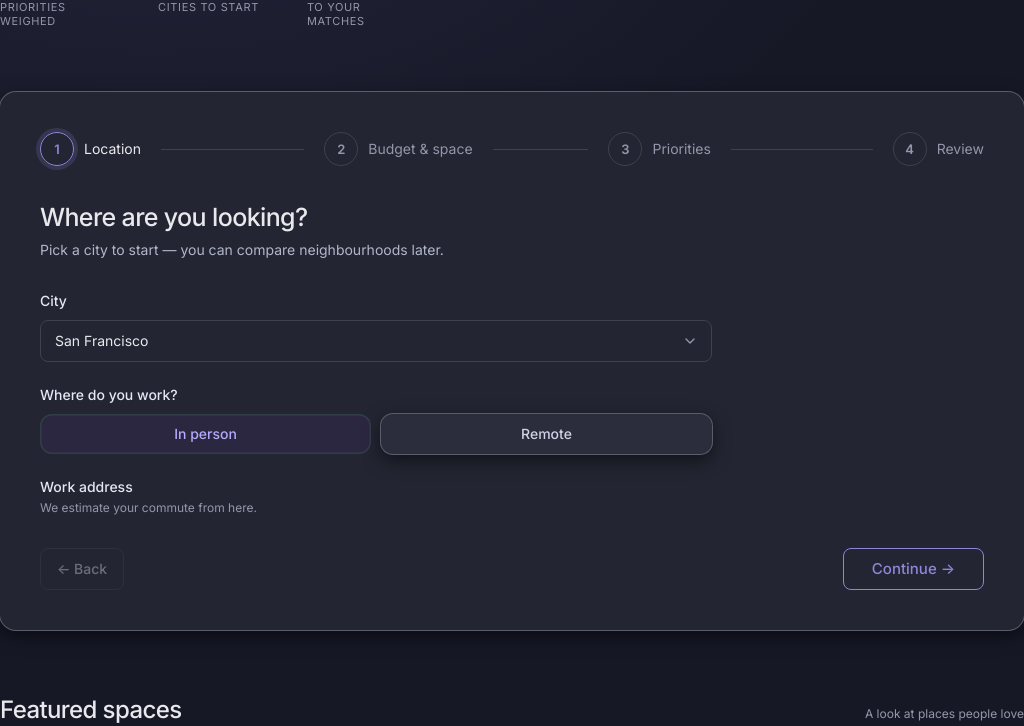
Scenario: search wizard › walks forward through all four steps
(page scrolled)
Check: the heading "Where are you looking?" is shown, box [40,202,308,232]
Click the button "Continue →" at (913, 569), box [843,548,984,590]
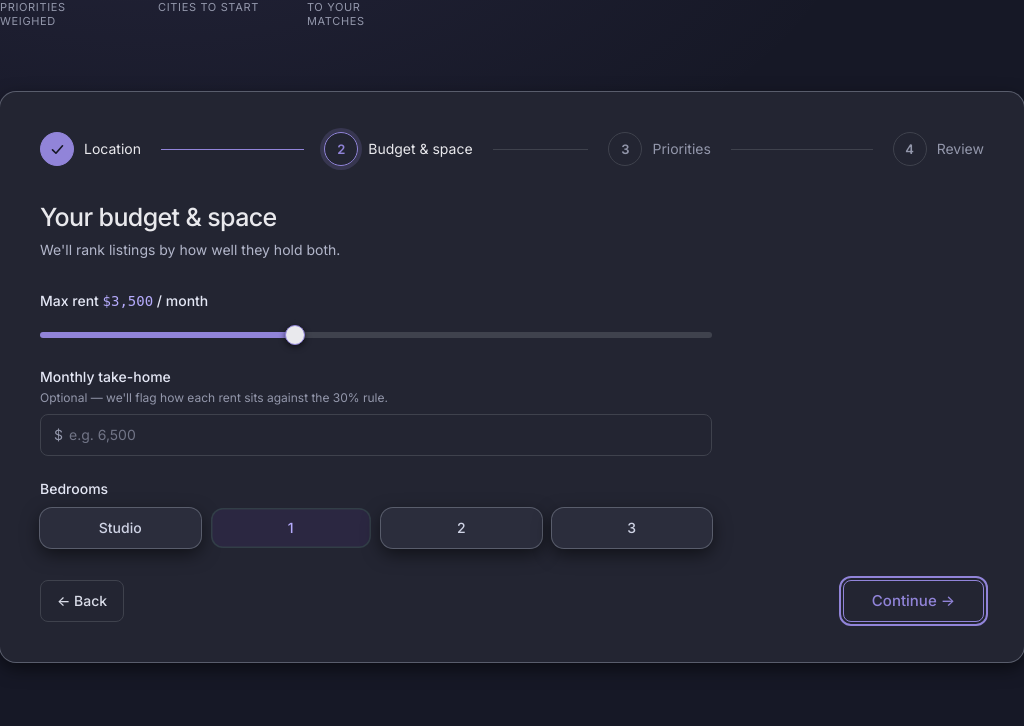
Check: the heading "Your budget & space" is shown, box [40,202,277,232]
Click the button "Continue →" at (913, 601), box [843,580,984,622]
(page scrolled)
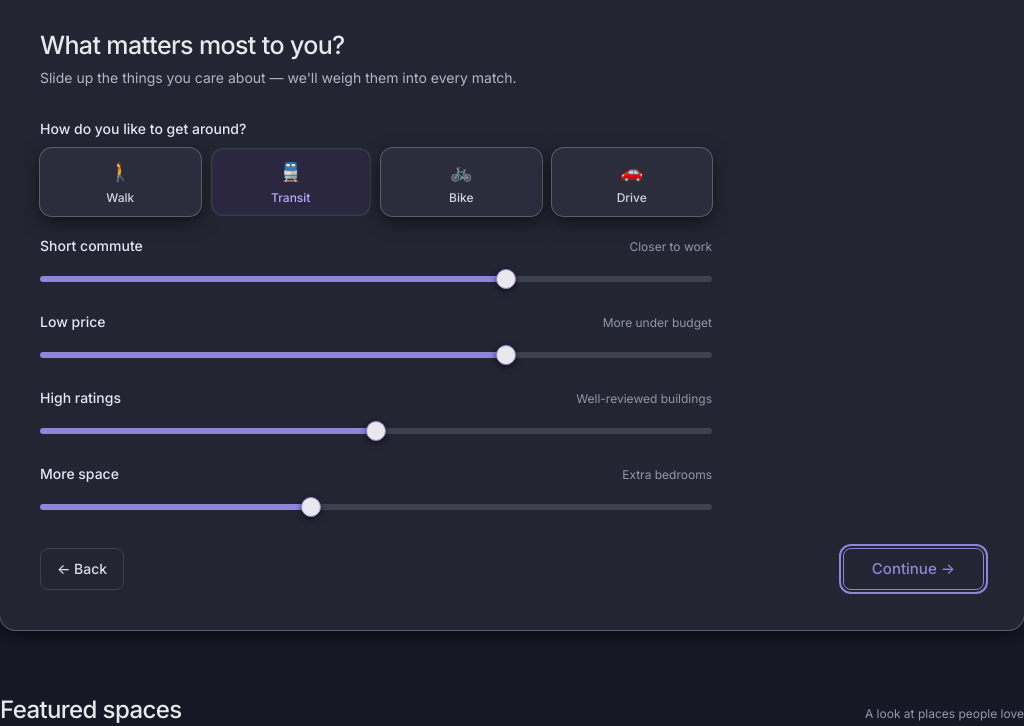
Check: the heading "What matters most to you?" is shown, box [40,30,345,60]
Click the button "Continue →" at (913, 569), box [843,548,984,590]
(page scrolled)
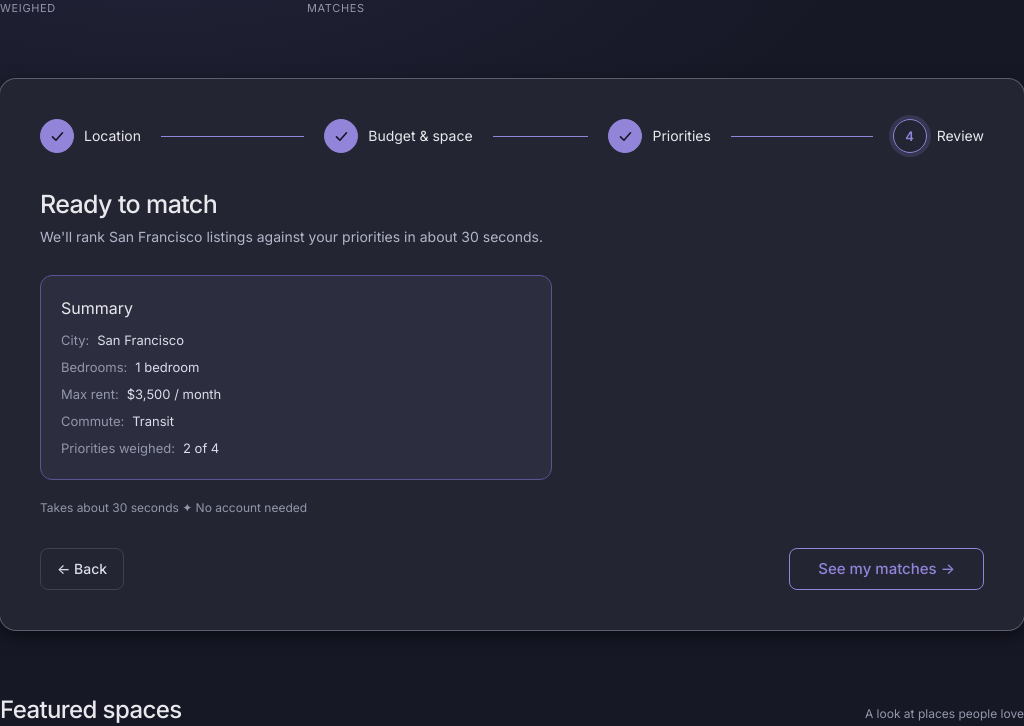
Check: the heading "Ready to match" is shown, box [40,189,217,219]
